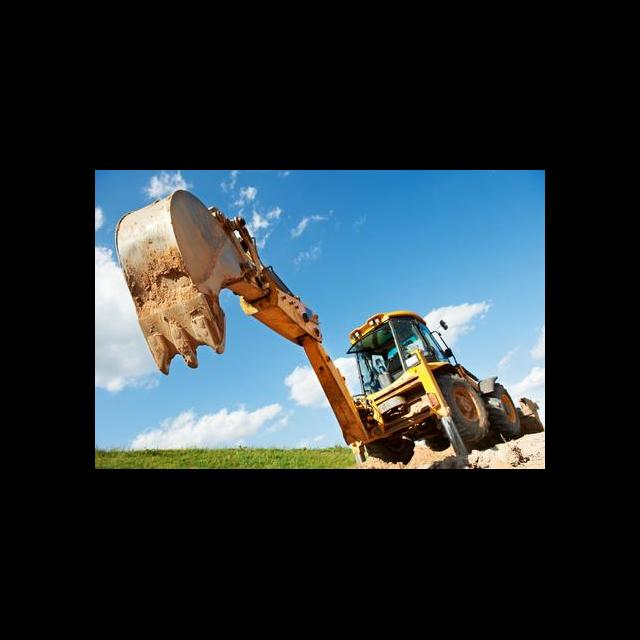Excavator: (114, 186, 542, 464)
